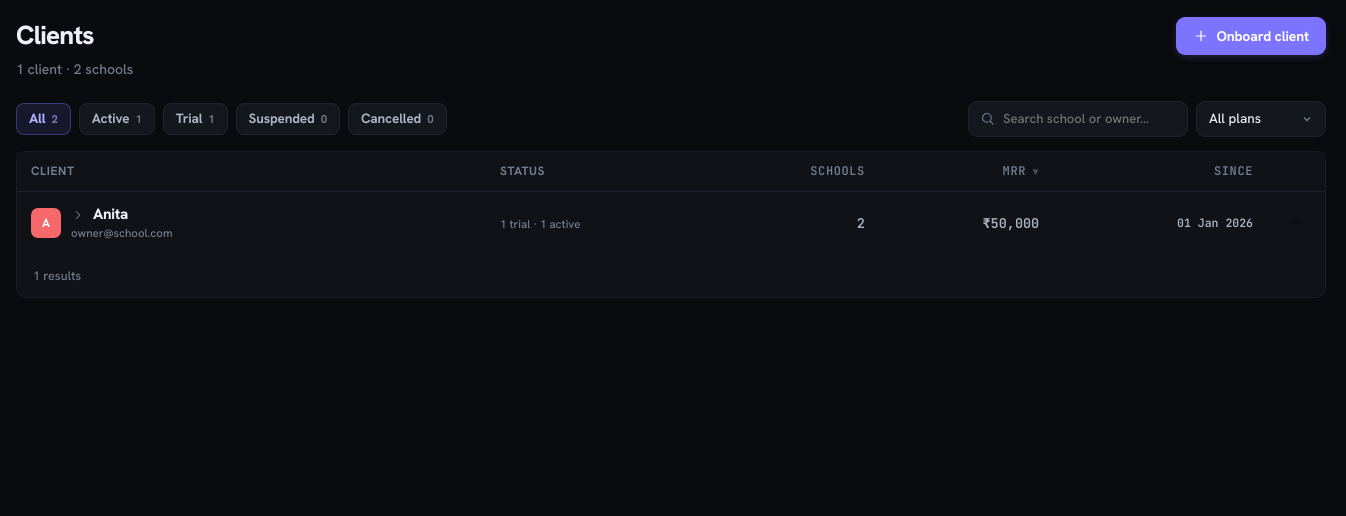
Scenario: ClientsScreen › expands owner click to list schools with details
Click the text "Anita": (110, 215) [93,205,128,225]
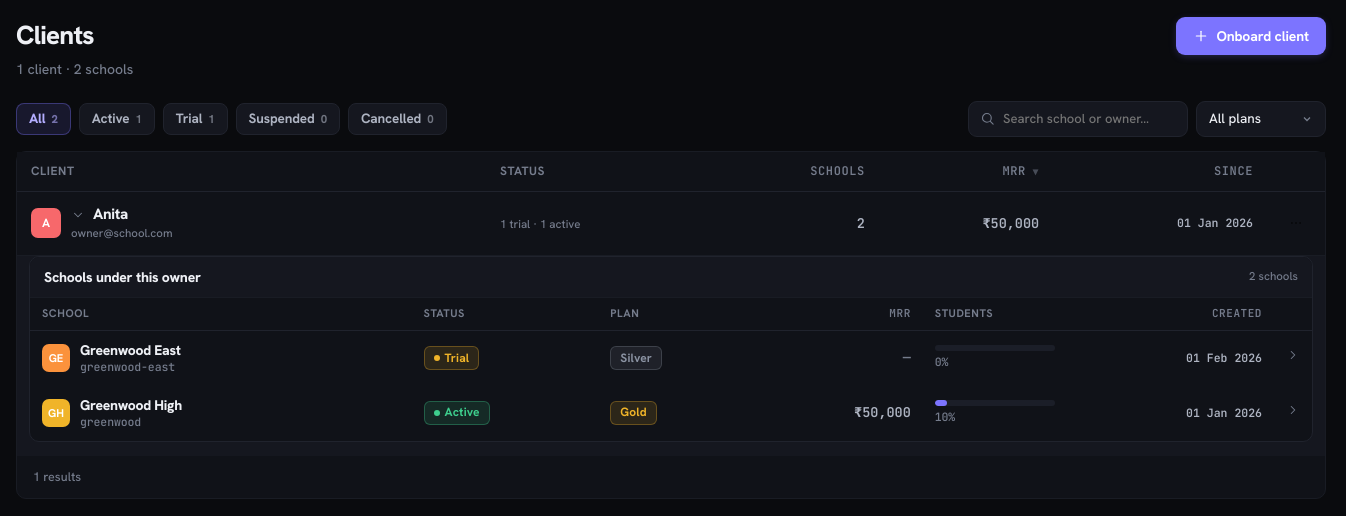
Now the text "Schools under this owner" is shown, box [44,266,201,287]
Now the text "Greenwood High" is shown, box [80,396,182,414]
Now the text "Greenwood East" is shown, box [80,341,181,359]
